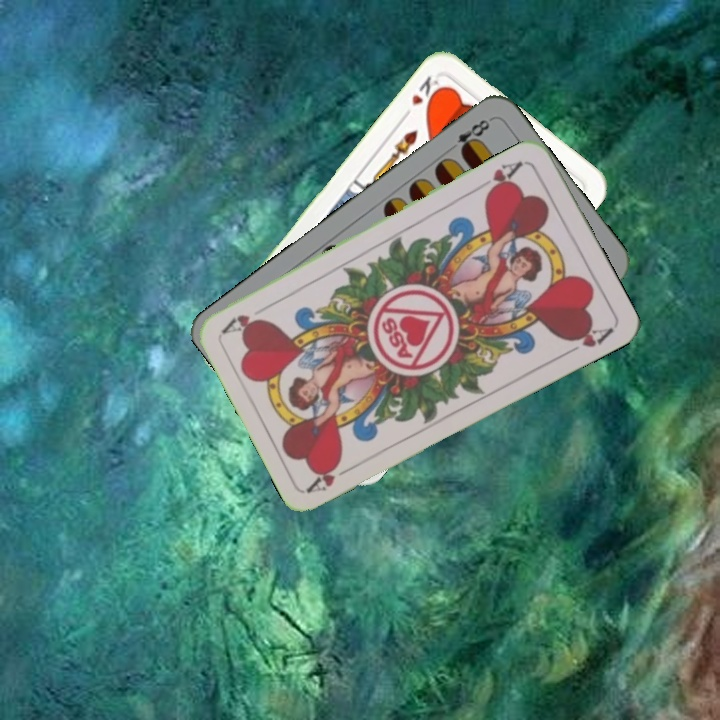E8: (443, 114, 495, 157)
HA: (473, 156, 526, 199), (304, 456, 360, 496)
HK: (398, 71, 446, 121)
